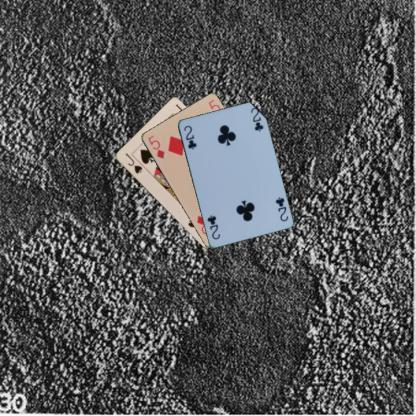2c: (180, 122, 198, 151), (272, 194, 290, 223)
5d: (145, 133, 166, 160)
Js: (122, 150, 144, 175)
